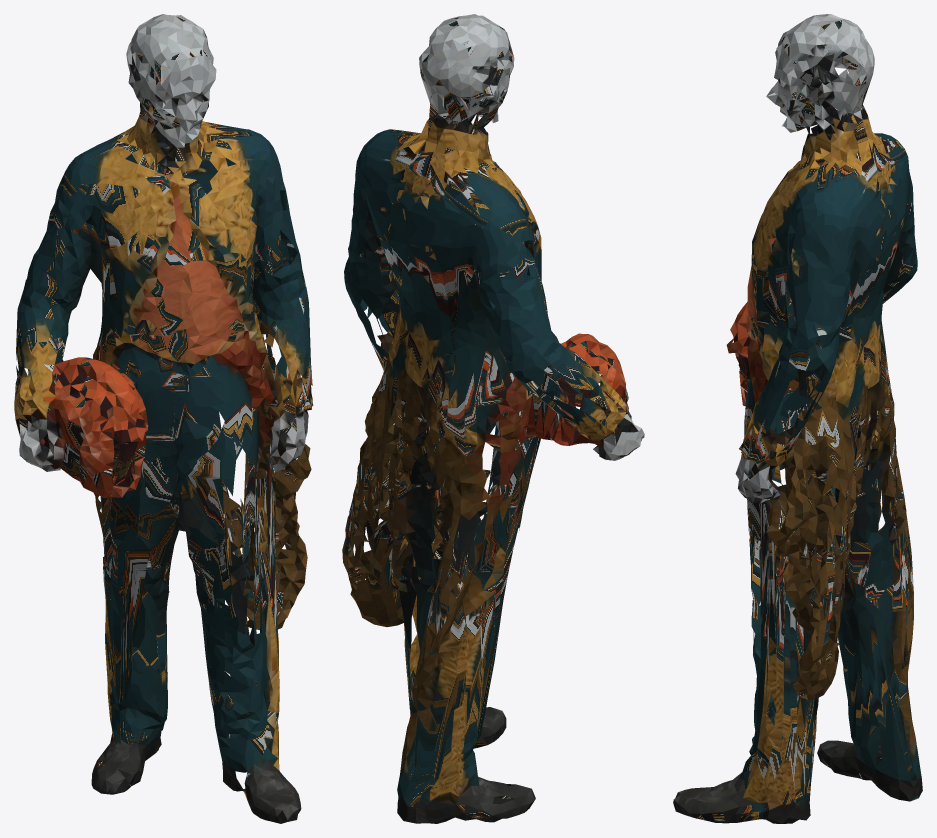
Rendered from helas-fragment.glb.
3 views of the same model, side by side, from view 1: azimuth 30°, elevation 25°; view 2: azimuth 150°, elevation 25°; view 3: azimuth 270°, elevation 25° (orthographic).
Parts seen in each view (by area): view 1: tripo_node_94da3f35-53b2-4137-aeac-3b19c9456e49; view 2: tripo_node_94da3f35-53b2-4137-aeac-3b19c9456e49; view 3: tripo_node_94da3f35-53b2-4137-aeac-3b19c9456e49.
Part boxes in pixels (x1=…): tripo_node_94da3f35-53b2-4137-aeac-3b19c9456e49: x1=14, y1=14, x2=313, y2=823; tripo_node_94da3f35-53b2-4137-aeac-3b19c9456e49: x1=342, y1=14, x2=644, y2=823; tripo_node_94da3f35-53b2-4137-aeac-3b19c9456e49: x1=673, y1=14, x2=922, y2=823.
Bounding box in the file's own units: 0.3946 × 0.9989 × 0.2928.
Materials: 1 (1 with a texture image).
